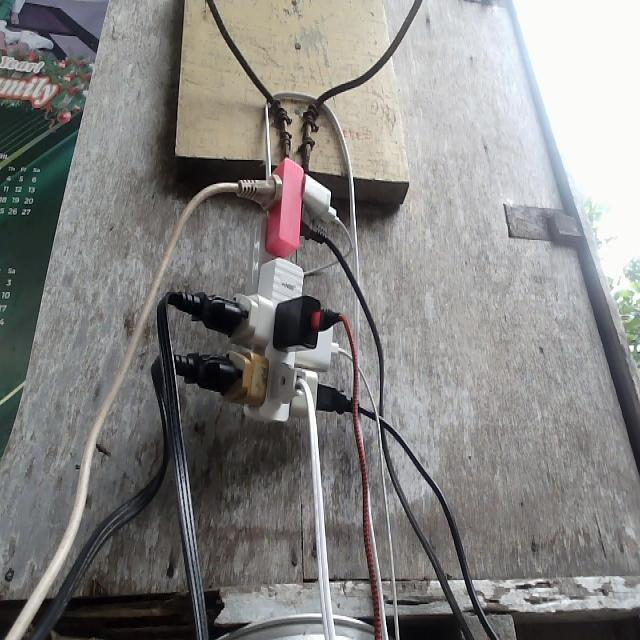-: (171, 153, 394, 452)
